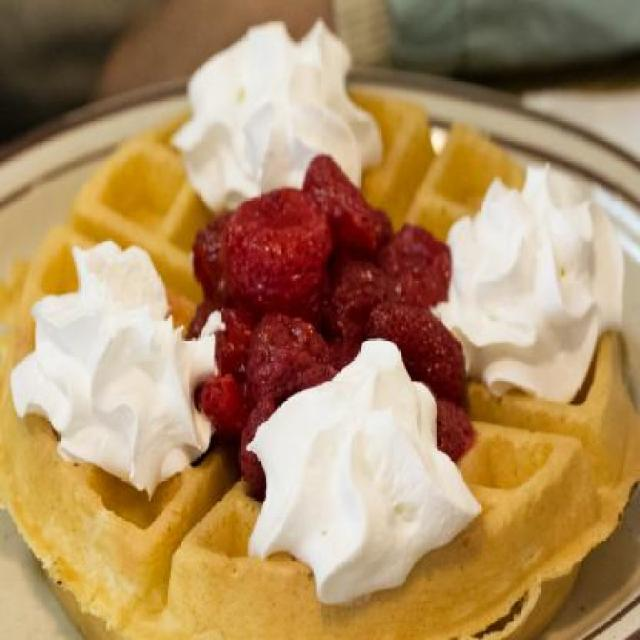Waffle: (0, 88, 640, 640)
